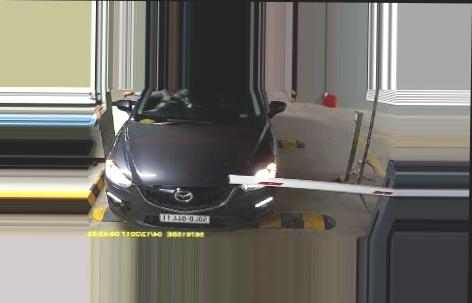License_Plate: (157, 212, 210, 225)
